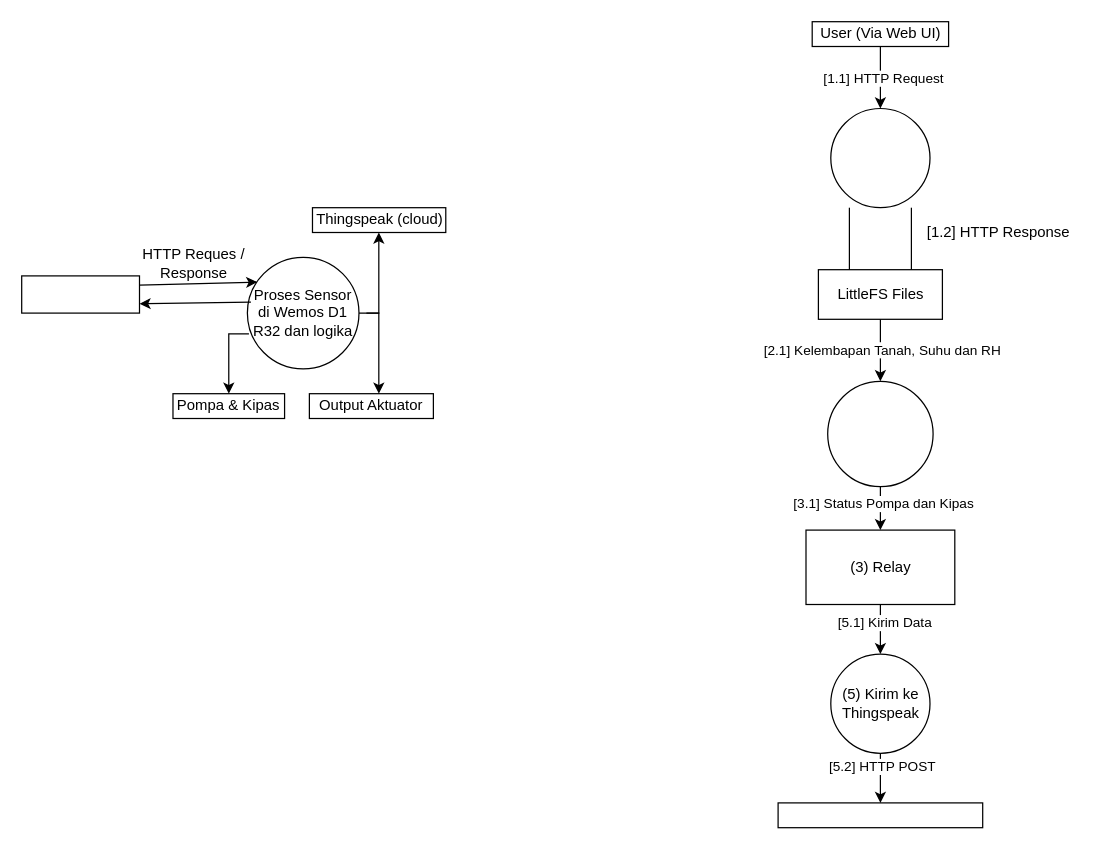
This 1094x849 diagram has some shape labels left out. The shapes that lost their labels are listed below. From the top down, each one's box as (x1, y1, x2, y2) in pixels, then its label:
(830, 107, 930, 208): (1) Web Interface (LittleFS)
(20, 275, 140, 313): User (Web UI)
(826, 380, 933, 487): (2) Baca Soil Moisture dan DHT 21
(777, 802, 983, 828): Thingspeak Cloud Platform
